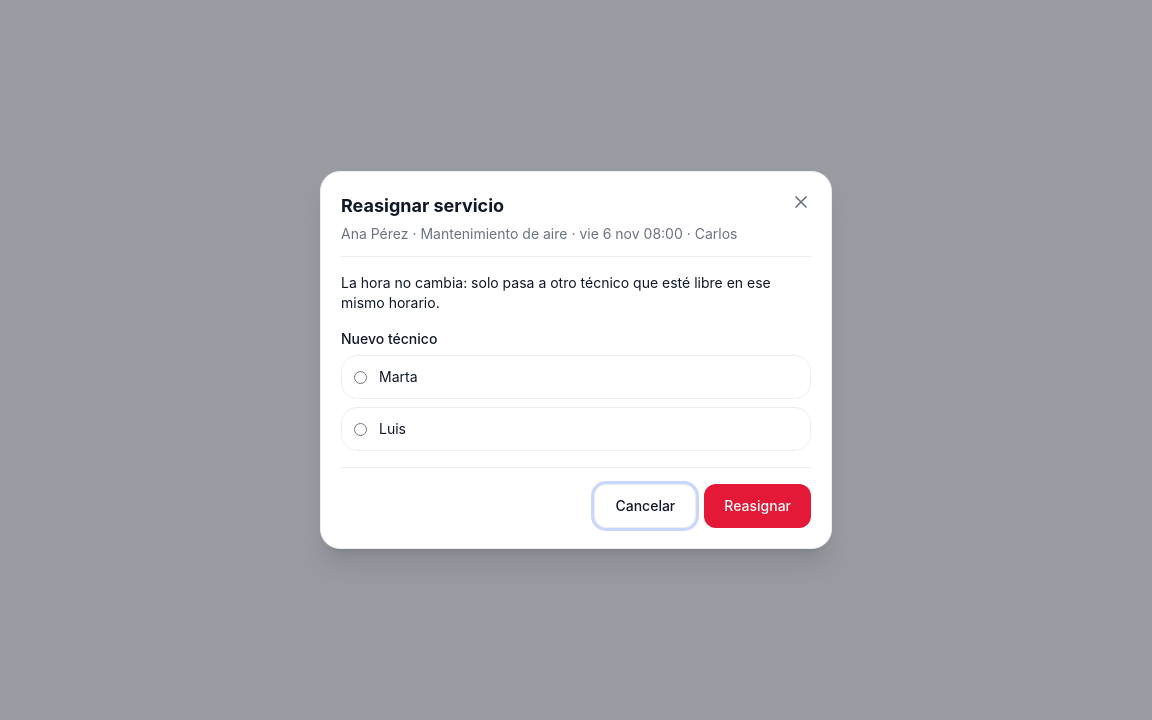
Test case: ReassignDialog › con "Cupo ocupado" mantiene el diálogo, recarga la lista y quita al técnico que ya no está libre
Click the radio button labelled "Marta".
click(360, 377)  # box [354, 370, 367, 384]
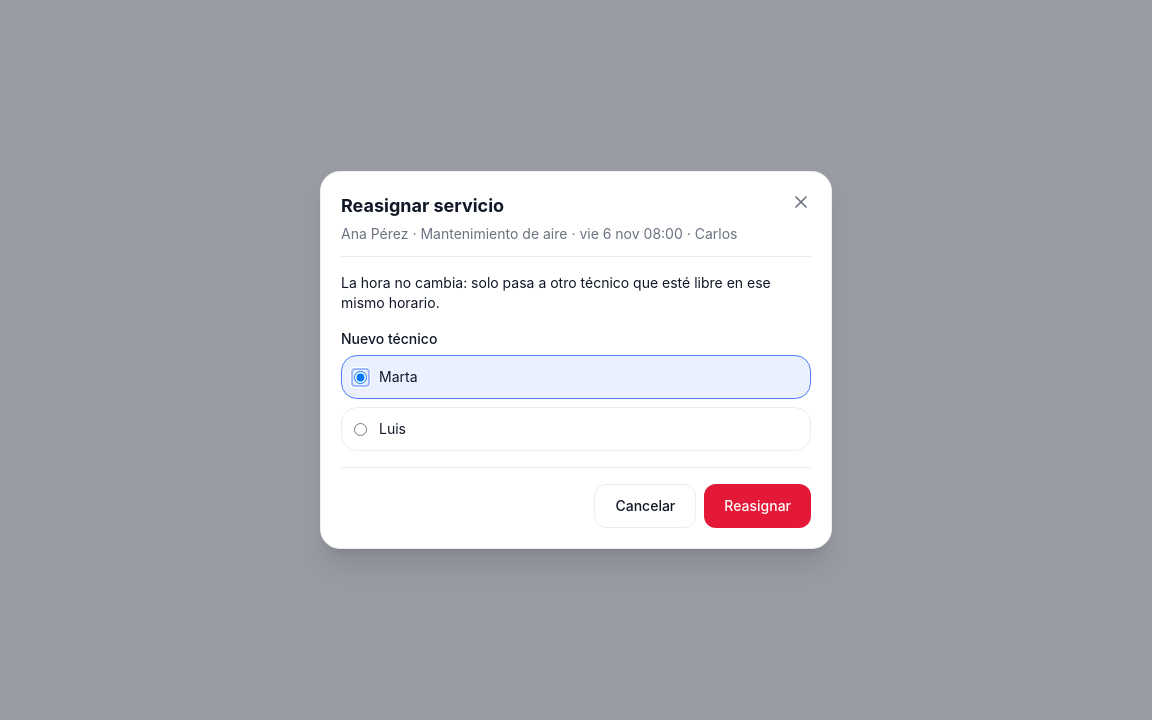
Click the button "Reasignar".
click(758, 506)  # box [704, 484, 811, 528]
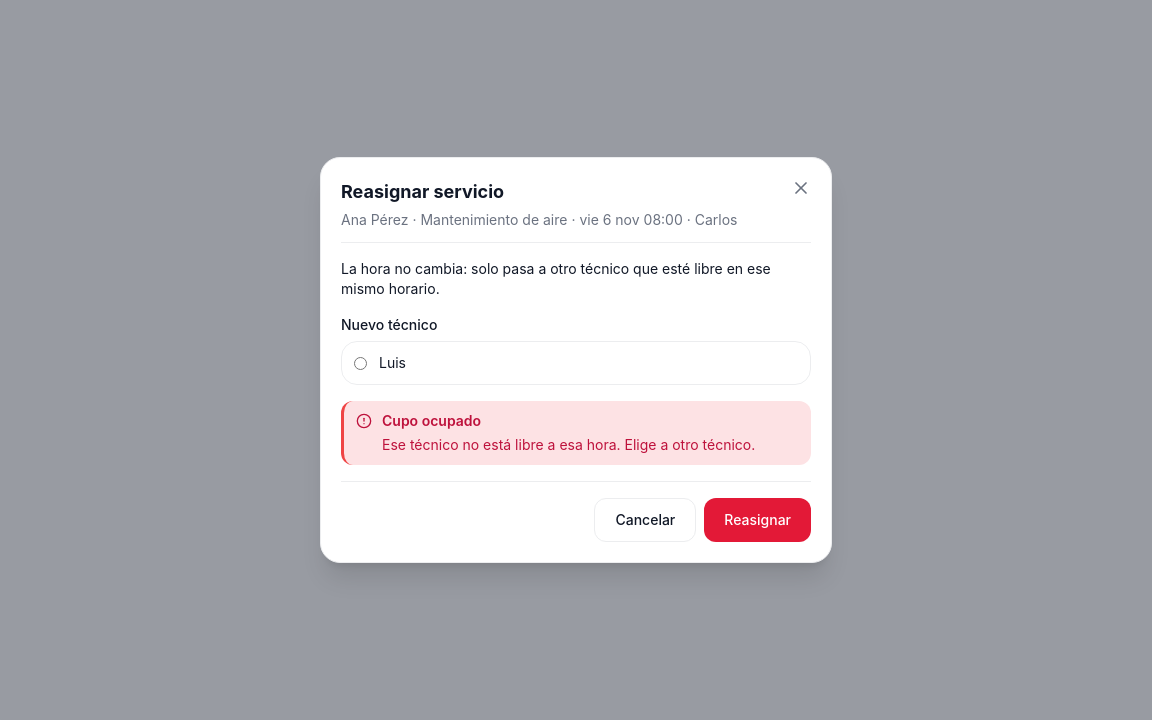
Check: the text "Cupo ocupado" is shown, box [382, 412, 481, 429]
Check: the text "Ese técnico no está libre a esa hora. Elige a otro técnico." is shown, box [382, 435, 755, 455]
Check: the label "Marta" is gone
